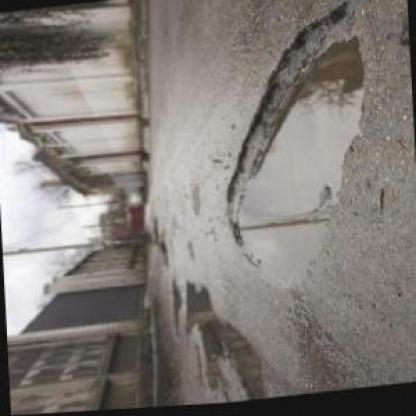pothole: (212, 3, 377, 297)
